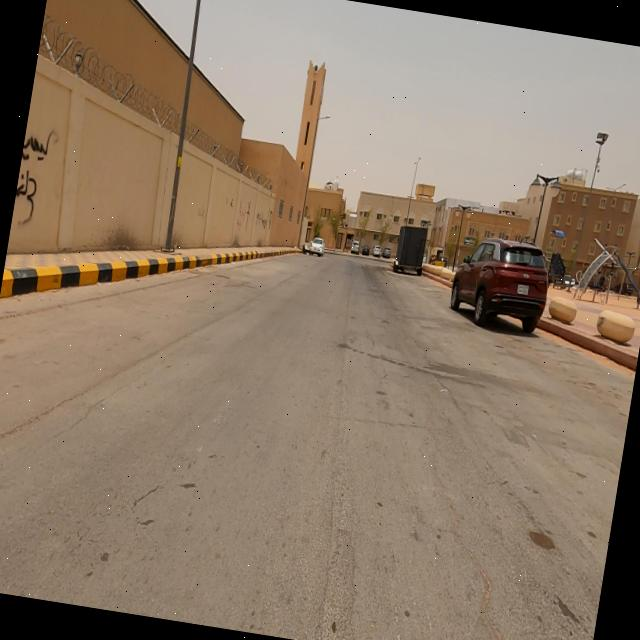Graffiti: (11, 124, 62, 230), (235, 202, 247, 228), (243, 200, 253, 230), (254, 212, 268, 230), (267, 210, 274, 230), (196, 206, 207, 218), (229, 198, 234, 208), (224, 197, 229, 206)
